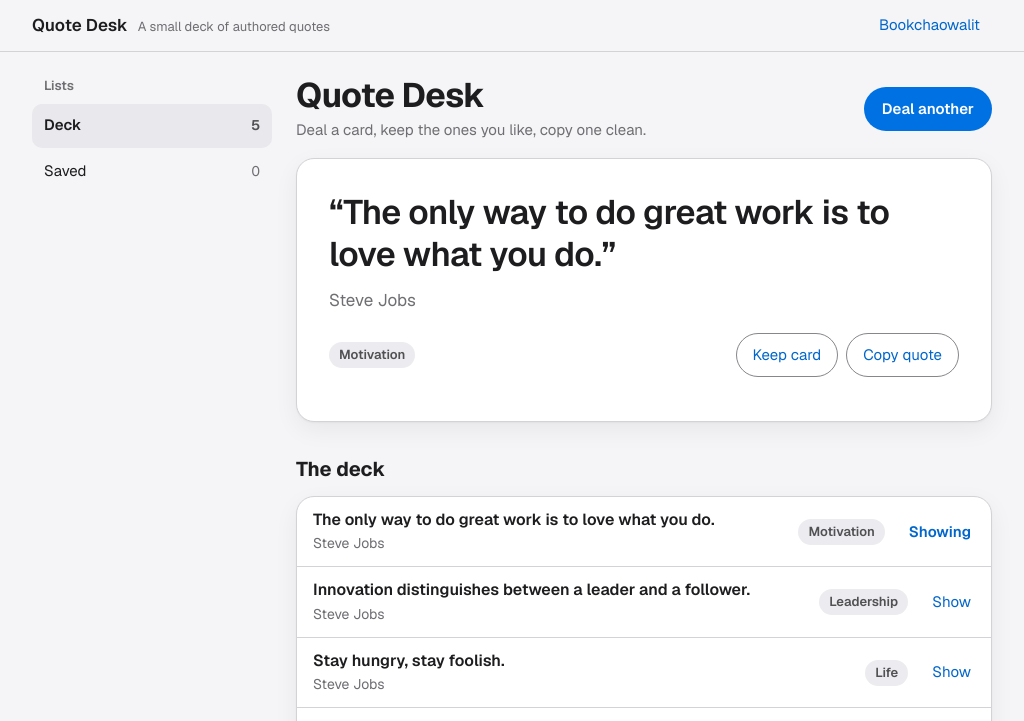
Test: quote desk › Keep card keeps the card even when another tab saved it first
Click the button "Keep card" at [787, 355], box [736,333,838,377]
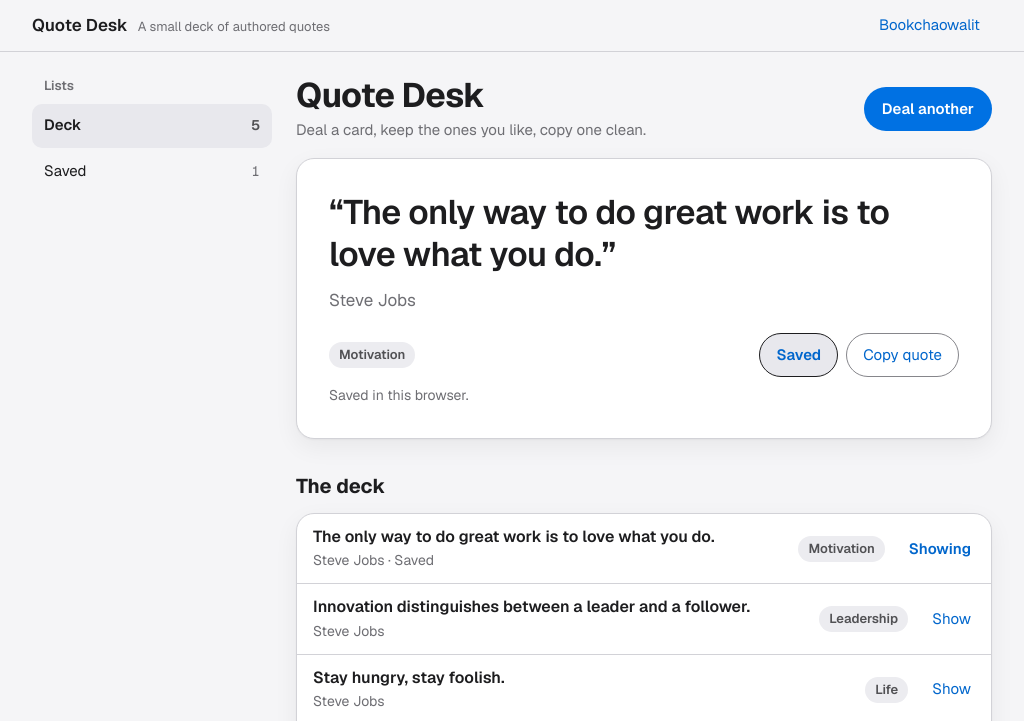
Result: the message "Saved in this browser." is shown at [329,386,468,404]
